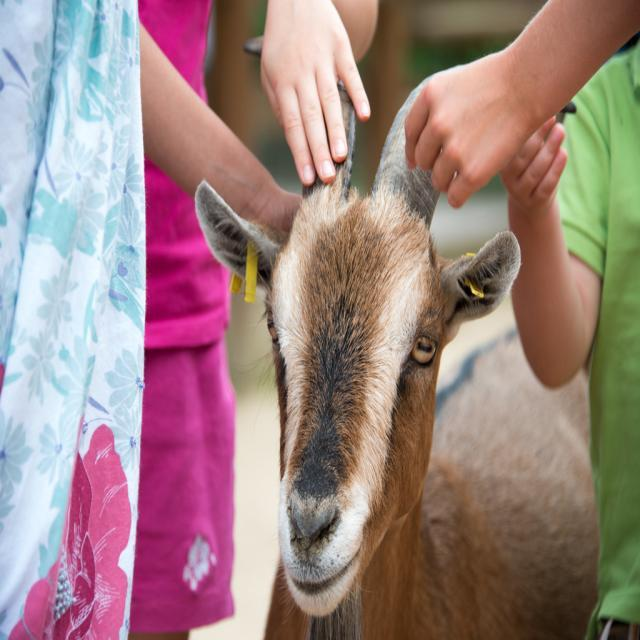Goat: (193, 72, 601, 638)
